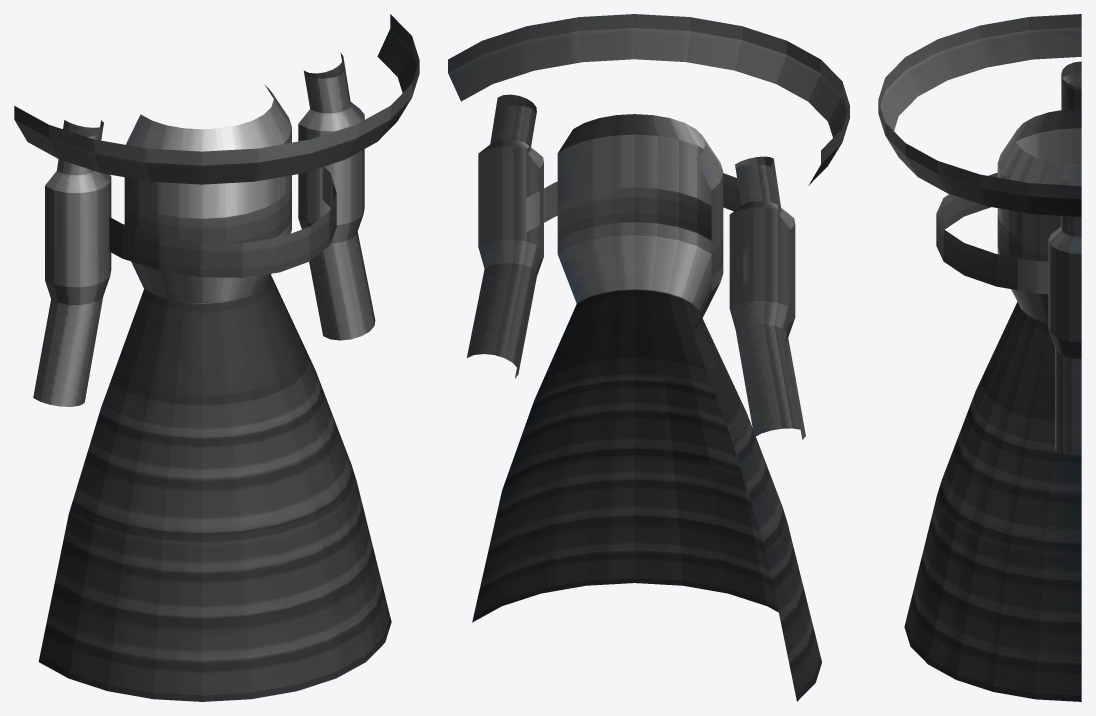
Rendered from EngineTitan.gltf.
3 views of the same model, side by side, from view 1: azimuth 30°, elevation 25°; view 2: azimuth 150°, elevation 25°; view 3: azimuth 270°, elevation 25° (orthographic). The views are drawn at different scales.
Visible parts, largest first — view 1: model; view 2: model; view 3: model.
Boxes of the visible parts, <box> form: model: <box>14,14,419,701</box>; model: <box>448,14,849,701</box>; model: <box>878,14,1081,701</box>.
Size of the model in its own units: 2.8 by 4 by 1.4.
1 material, 1 textured.
